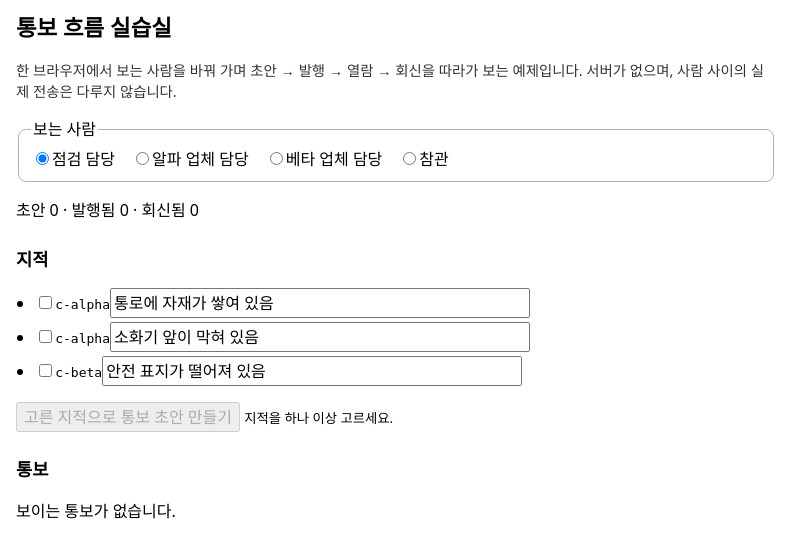
it: the screen › says beforehand why a button cannot be pressed, with a different sentence per reason
Expected: the button "고른 지적으로 통보 초안 만들기" is disabled, [16, 402, 240, 432]
Expected: the text with id "draft-why" reads "지적을 하나 이상 고르세요.", [244, 409, 393, 427]
Click the checkbox named "f-1 고르기". click: (46, 303)
box: [39, 296, 52, 309]
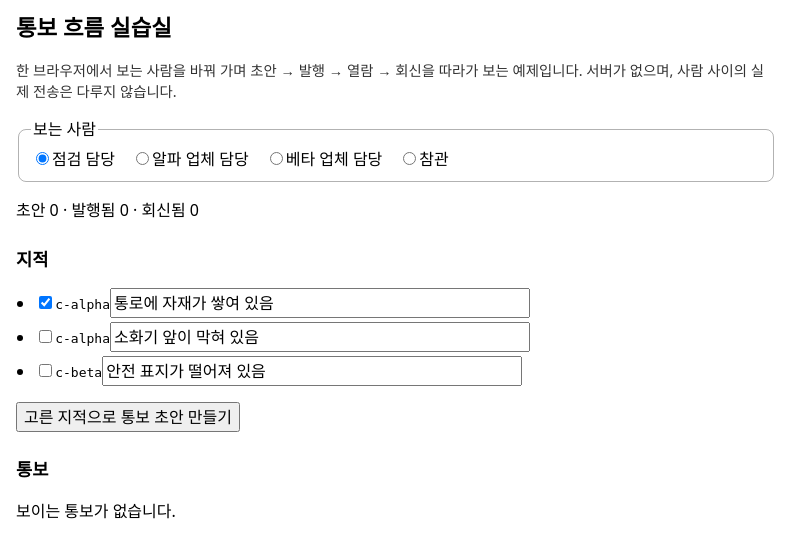
Expected: the button "고른 지적으로 통보 초안 만들기" is enabled, [16, 402, 240, 432]
Click the checkbox labelled "c-beta". click: (46, 371)
box: [39, 364, 52, 377]
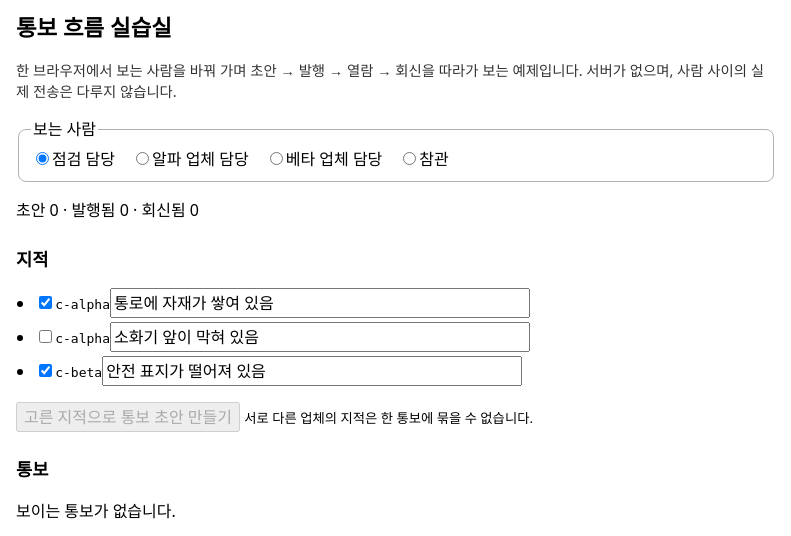
Expected: the button "고른 지적으로 통보 초안 만들기" is disabled, [16, 402, 240, 432]
Expected: the text with id "draft-why" reads "서로 다른 업체의 지적은 한 통보에 묶을 수 없습니다.", [244, 409, 533, 427]
